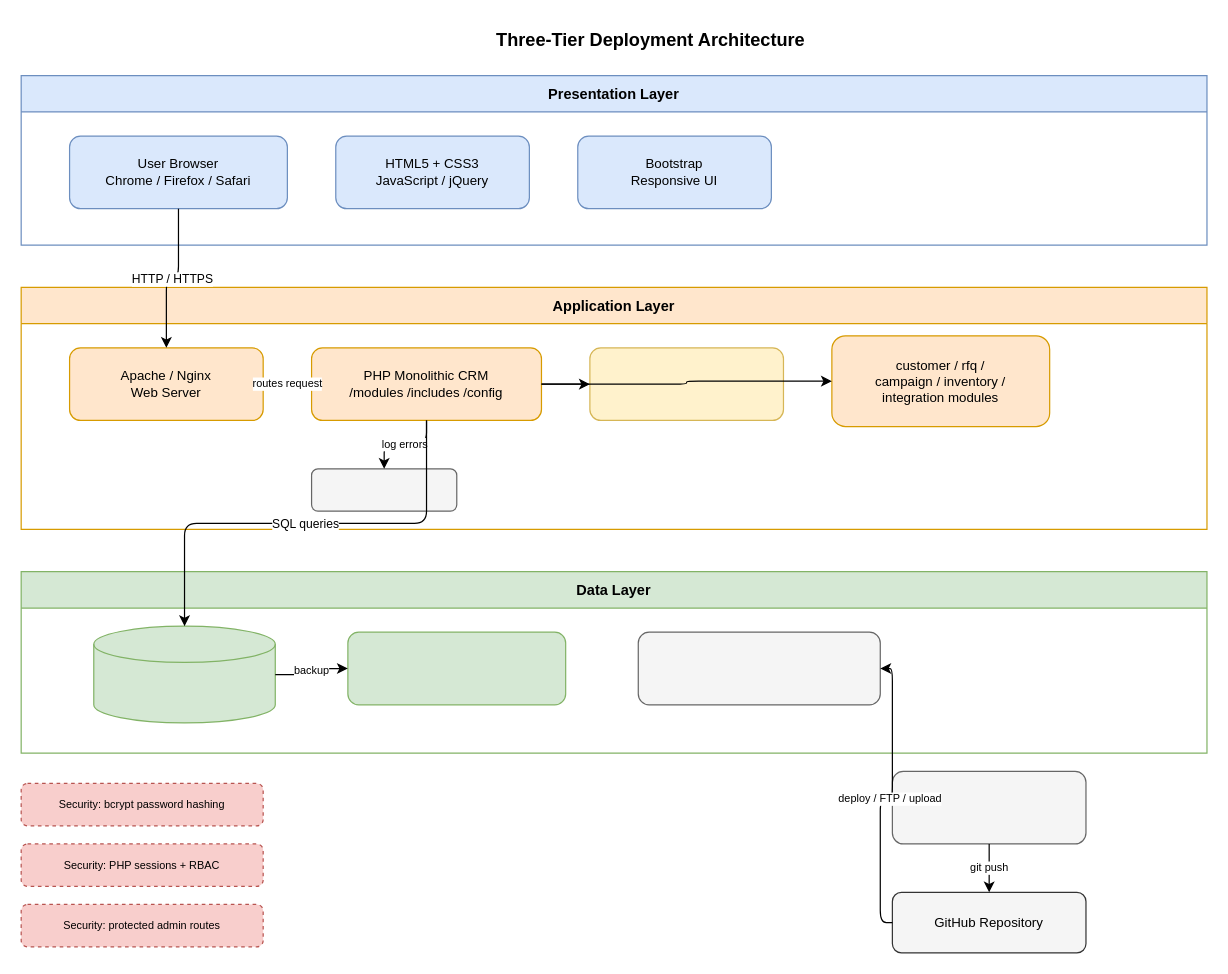
Image size: 1228x974. Some labels were removed from this diagram. The centre of each missing label's shape, as x and y in pixels:
"Auth / Session RBAC Checks" goes at pixel 686 383.
"Database Backups (scheduled / manual)" goes at pixel 456 668.
"Error Logs" goes at pixel 383 489.
"Hosting Platform GoDaddy / Bluehost / AWS" goes at pixel 758 668.
"MySQL Database" goes at pixel 184 674.
"Student Developer Workstations" goes at pixel 988 807.
